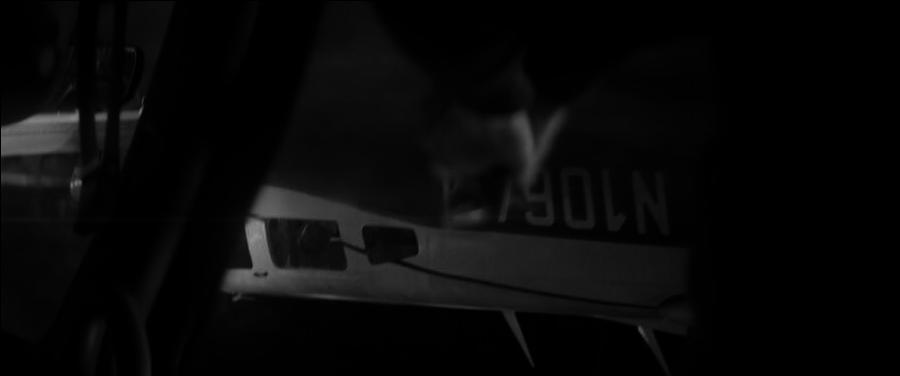gun: (446, 143, 514, 222)
